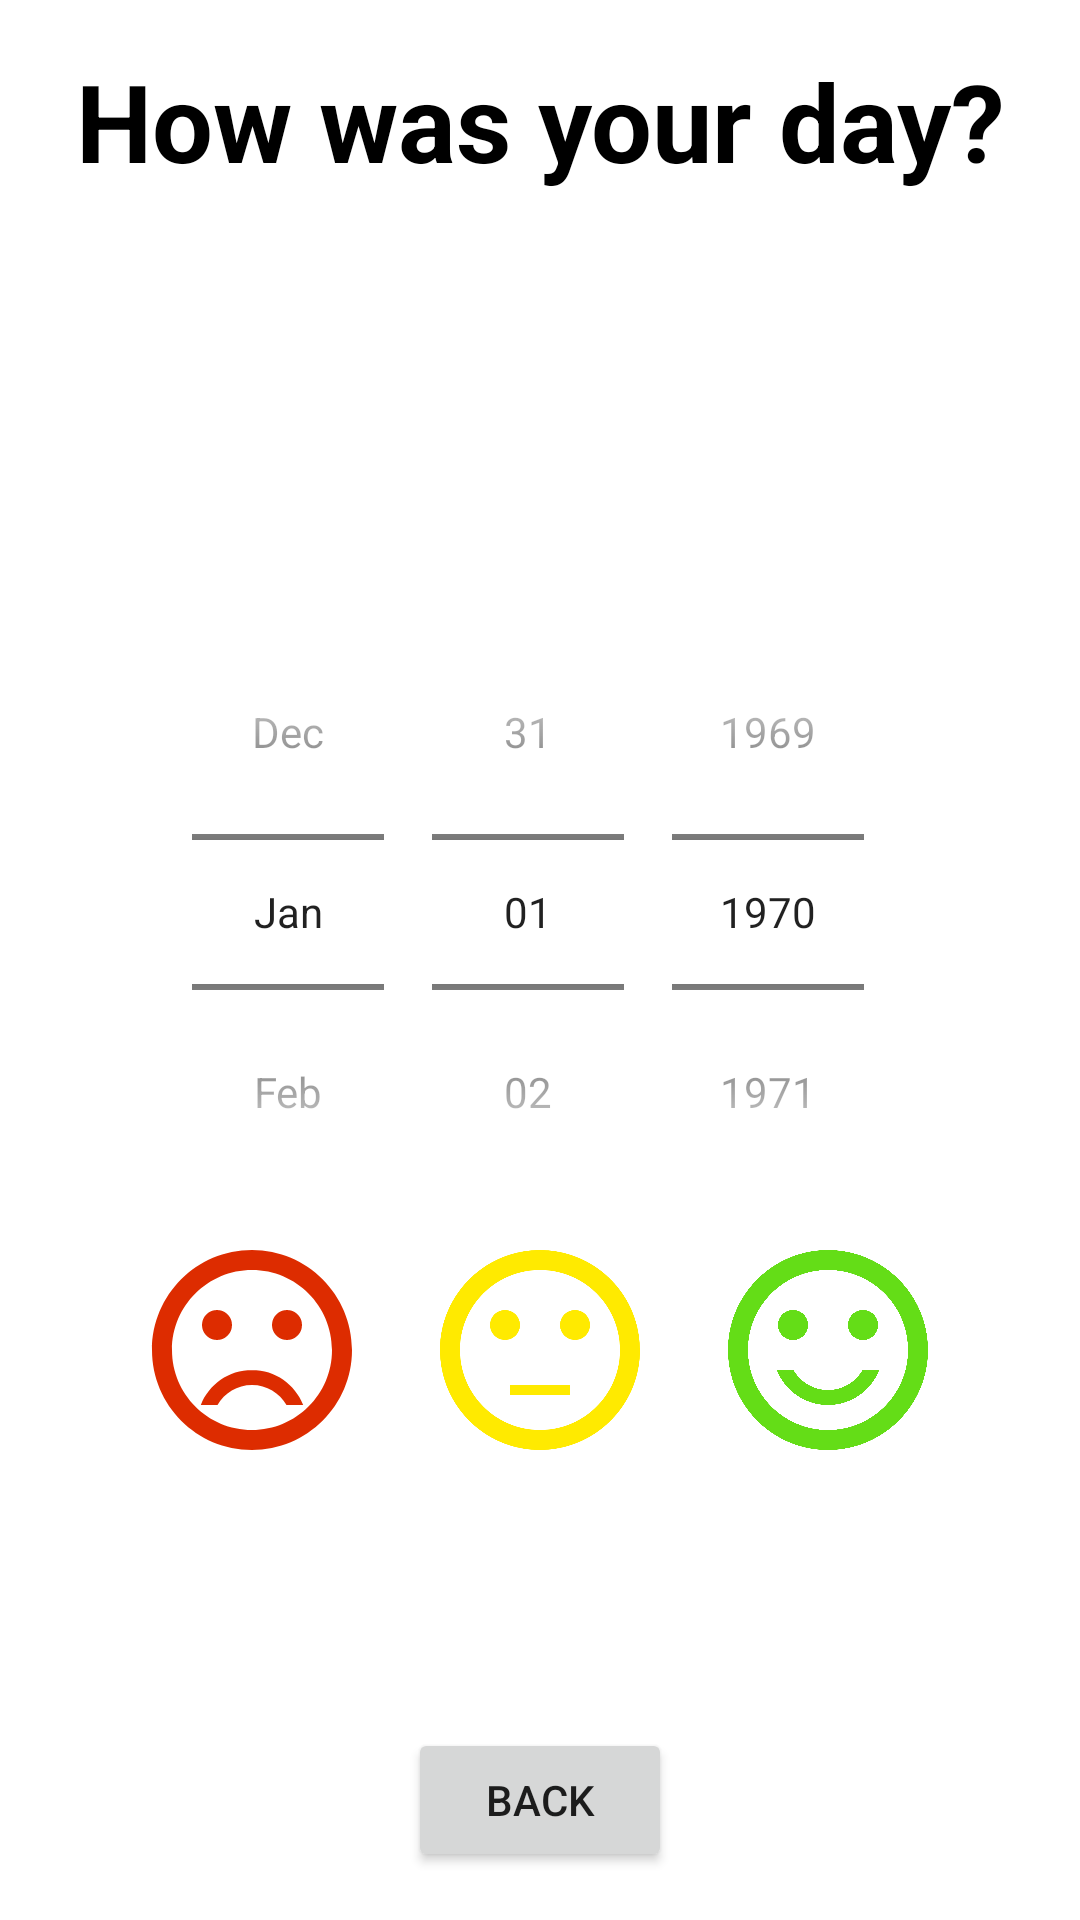

Icons on this 1080x1920 Android screen, each with its box as (left=x1, top=y1, right=x2, bottom=y2):
dissatisfied: (left=151, top=1250, right=352, bottom=1450)
neutral: (left=440, top=1250, right=640, bottom=1450)
satisfied: (left=728, top=1250, right=928, bottom=1450)
